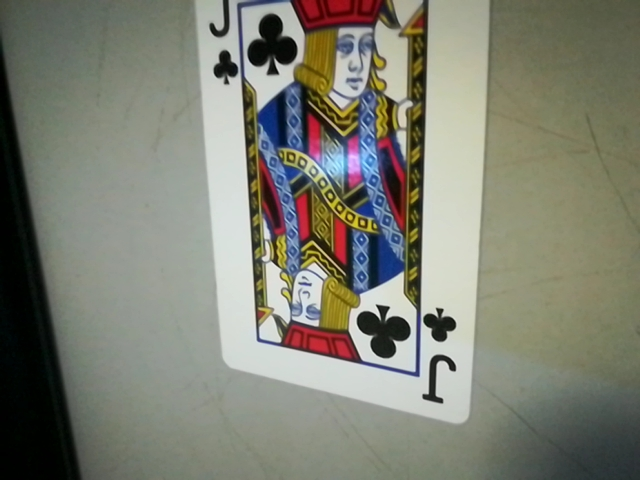mh j: (412, 300, 467, 416)
